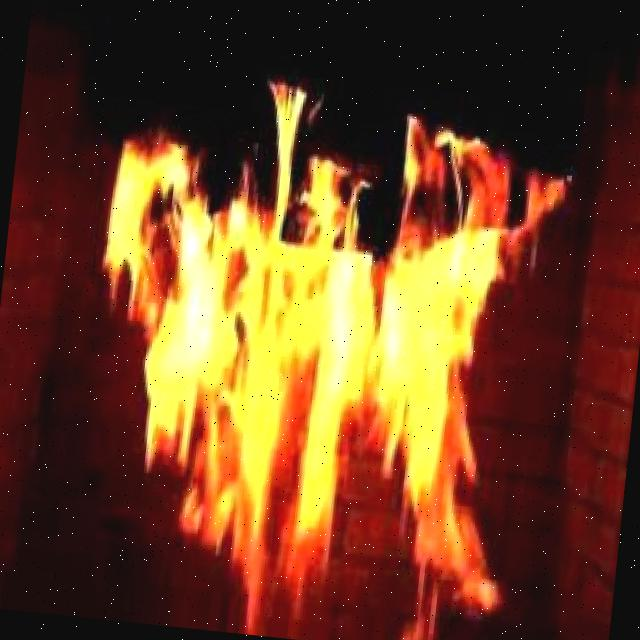fire: (110, 135, 514, 569)
